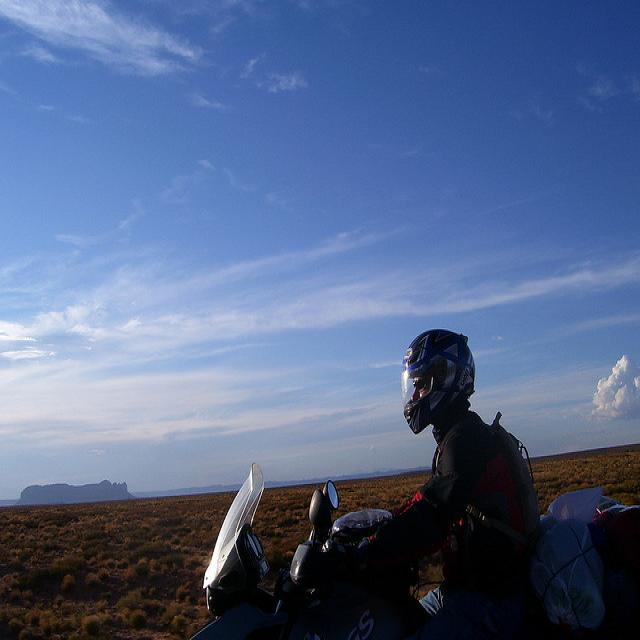motor: (191, 459, 640, 640)
